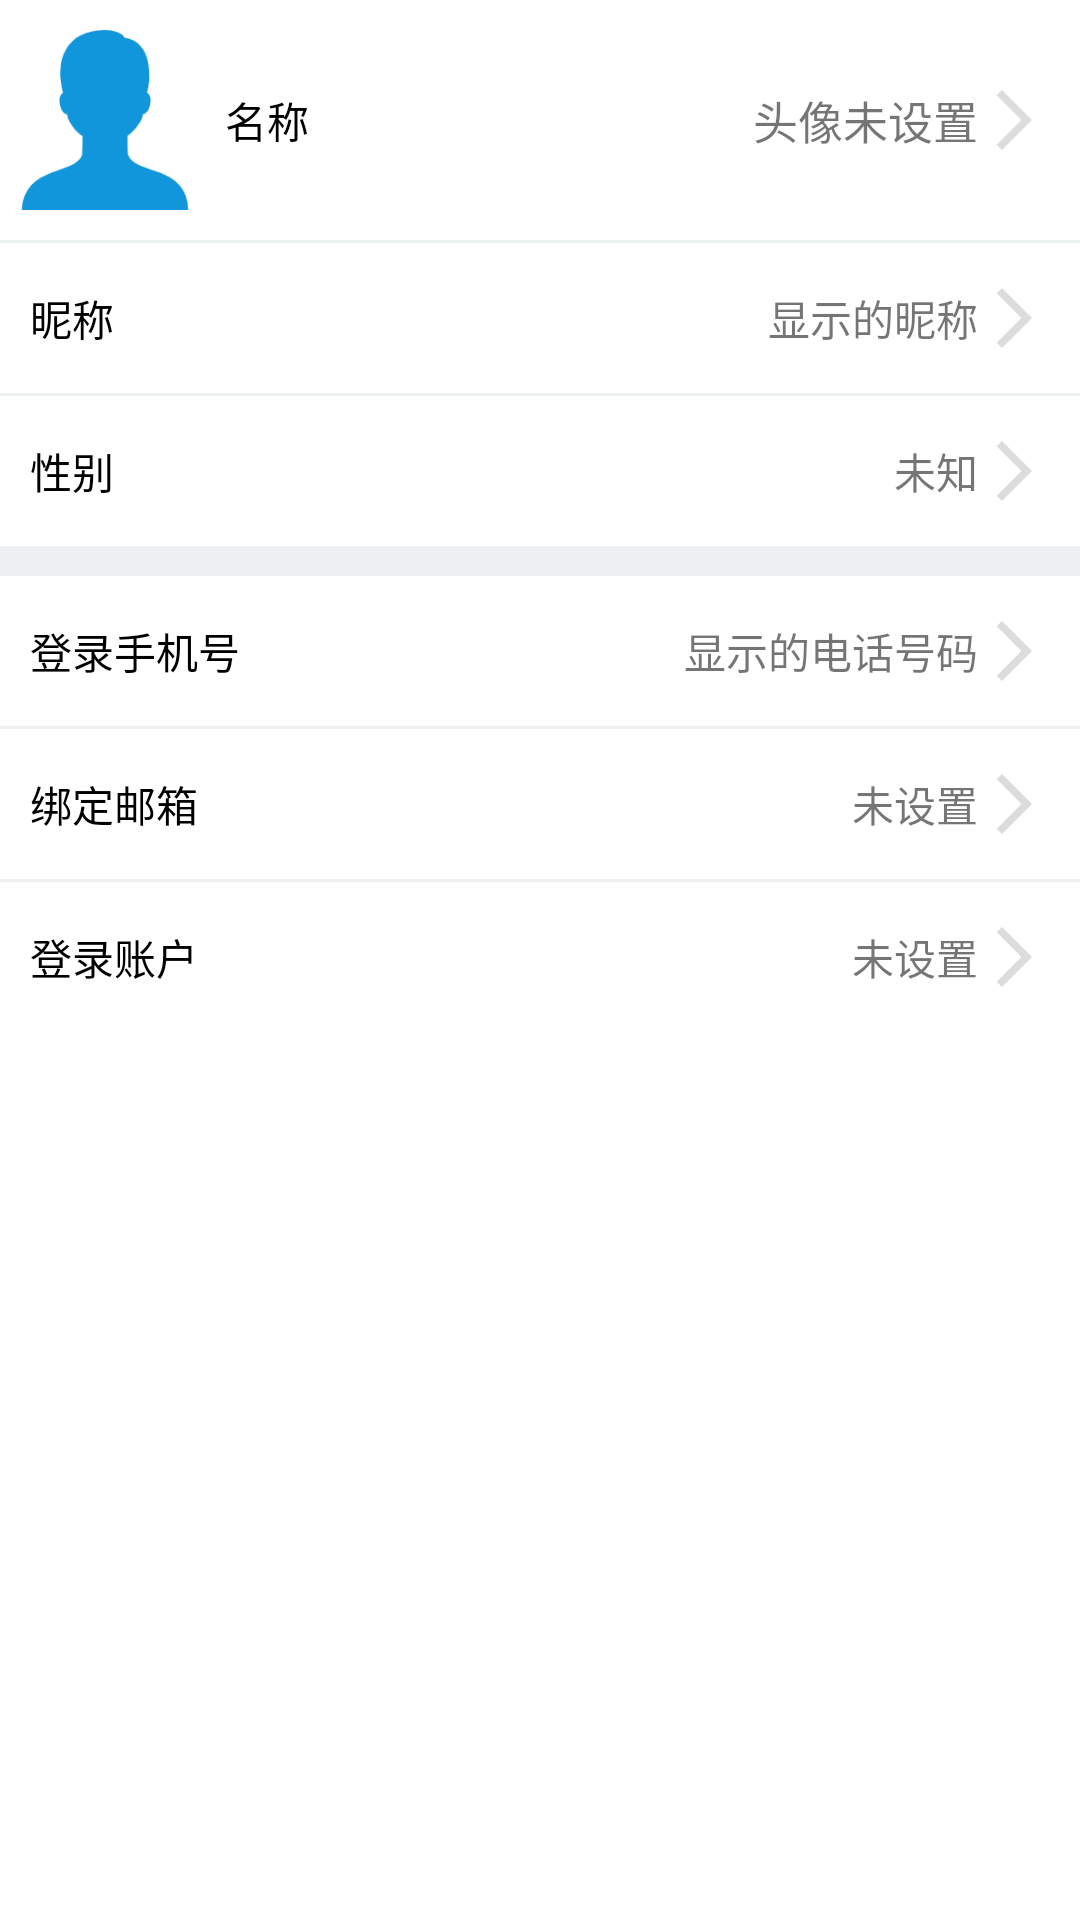

Point at icon controls on the screen. Image size 1080×1920, points as (x,y).
arrow forward: (1014,120), (1014,318), (1014,471), (1014,651), (1014,804), (1014,957)
head: (105,120)
